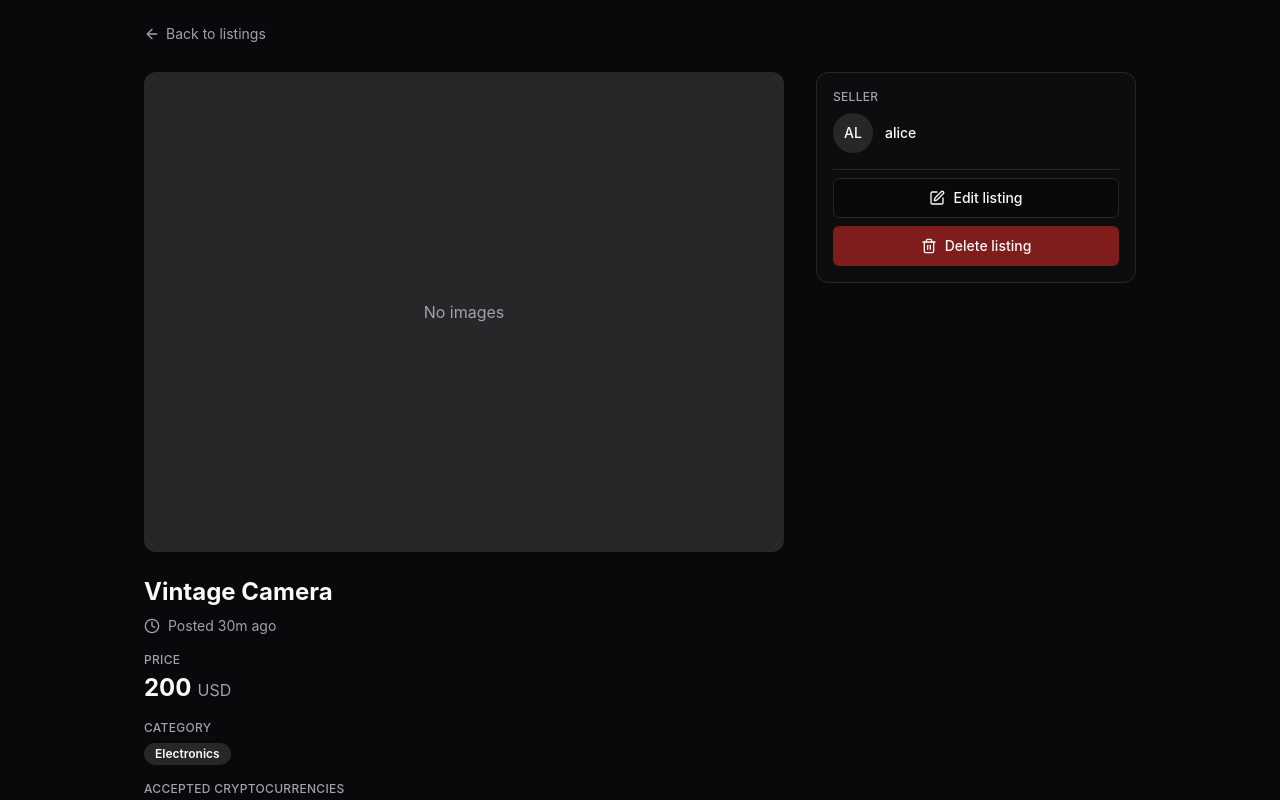
Test: ListingDetailPage — owner actions › opens delete dialog when Delete button clicked
Click the button "Delete listing" at (976, 246), box x1=833 y1=226 x2=1119 y2=266
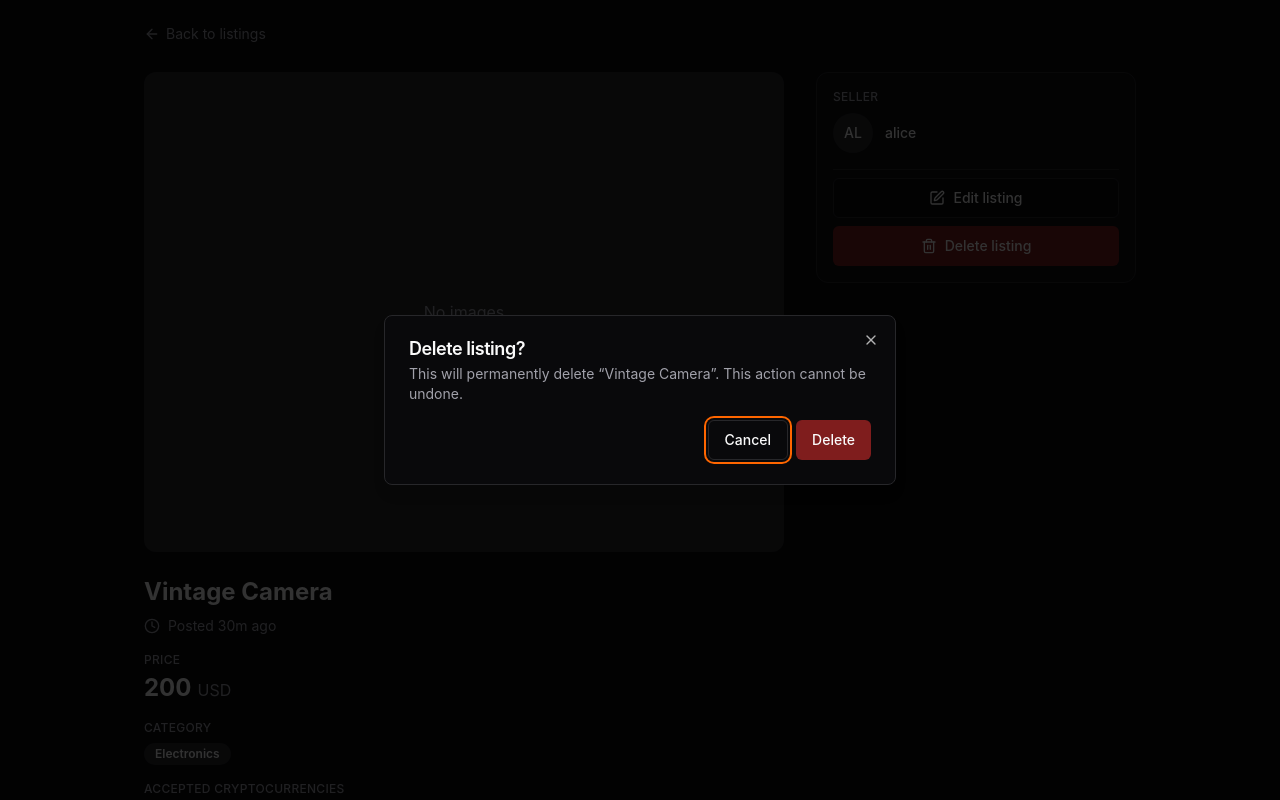
Expected: the dialog is shown, x1=384 y1=315 x2=896 y2=485
Expected: the text "permanently delete" is shown, x1=409 y1=365 x2=604 y2=382
